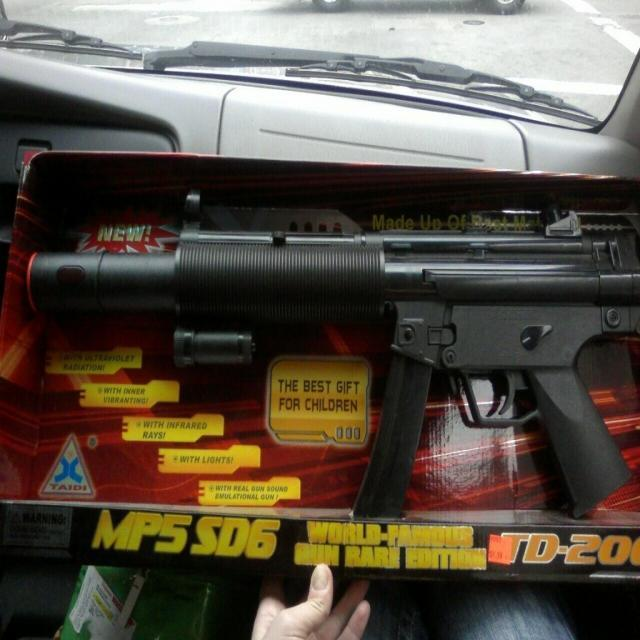weapon: (25, 200, 640, 519)
